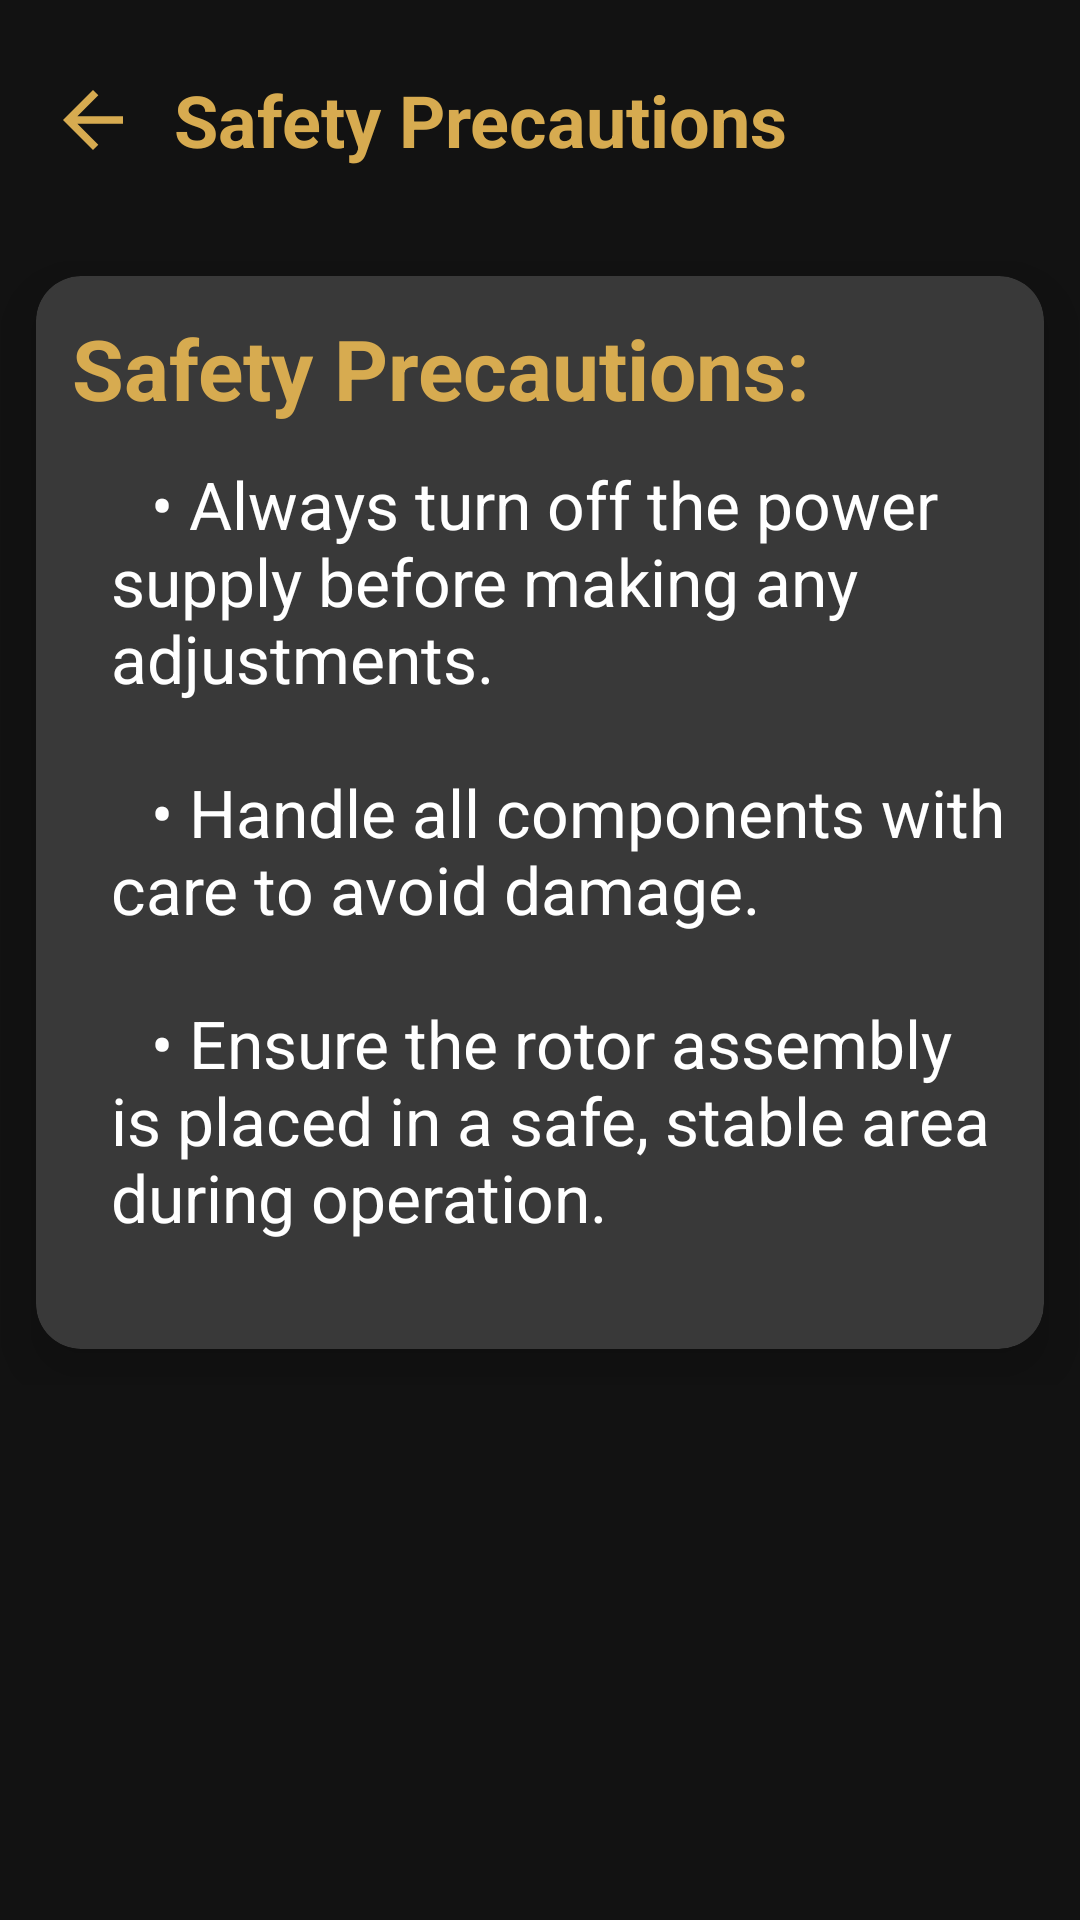

Icon bounding boxes for this 1080px x 1920px phone screenshot, format {"x1": x1, "y1": y1, "x2": x2, "y2": y2}:
arrow back: {"x1": 63, "y1": 90, "x2": 123, "y2": 150}
